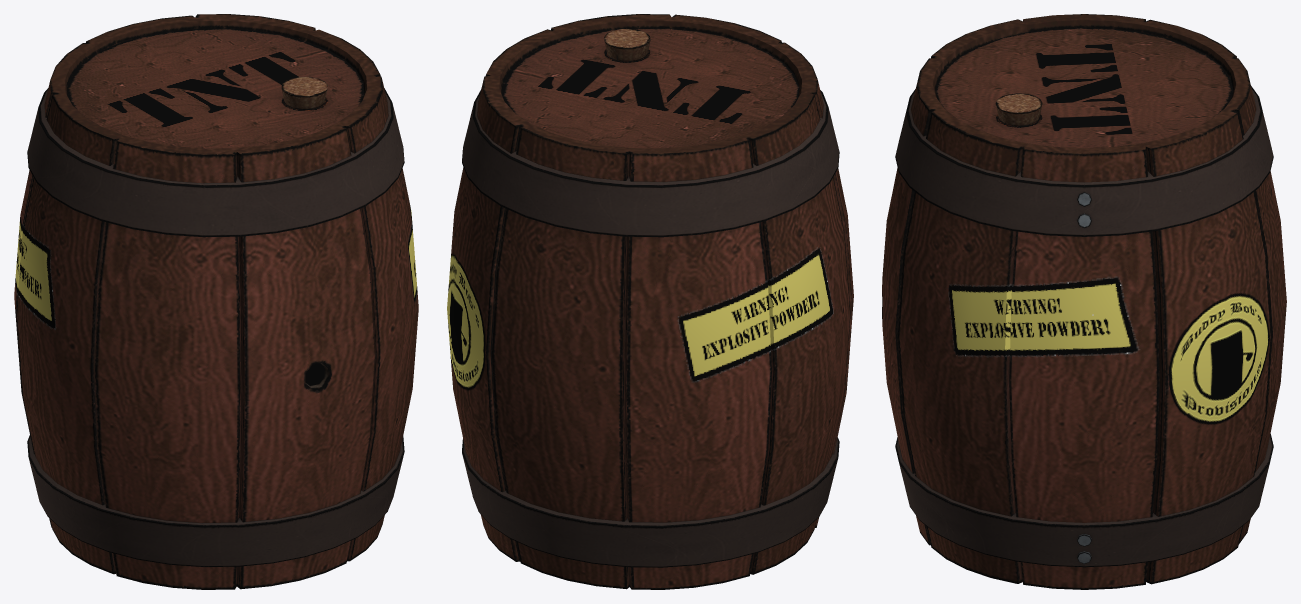
File: powder_keg_1.fbx
The picture shows the model from 3 angles, left to right: view 1: azimuth 30°, elevation 25°; view 2: azimuth 150°, elevation 25°; view 3: azimuth 270°, elevation 25°; orthographic projection.
Visible parts, largest first — view 1: joined_keg; view 2: joined_keg; view 3: joined_keg.
Boxes of the visible parts, left/top/right/bottom form: joined_keg: left=14, top=14, right=418, bottom=589; joined_keg: left=447, top=14, right=853, bottom=589; joined_keg: left=882, top=14, right=1286, bottom=589.
Bounding box in the file's own units: 253 × 306 × 253.
